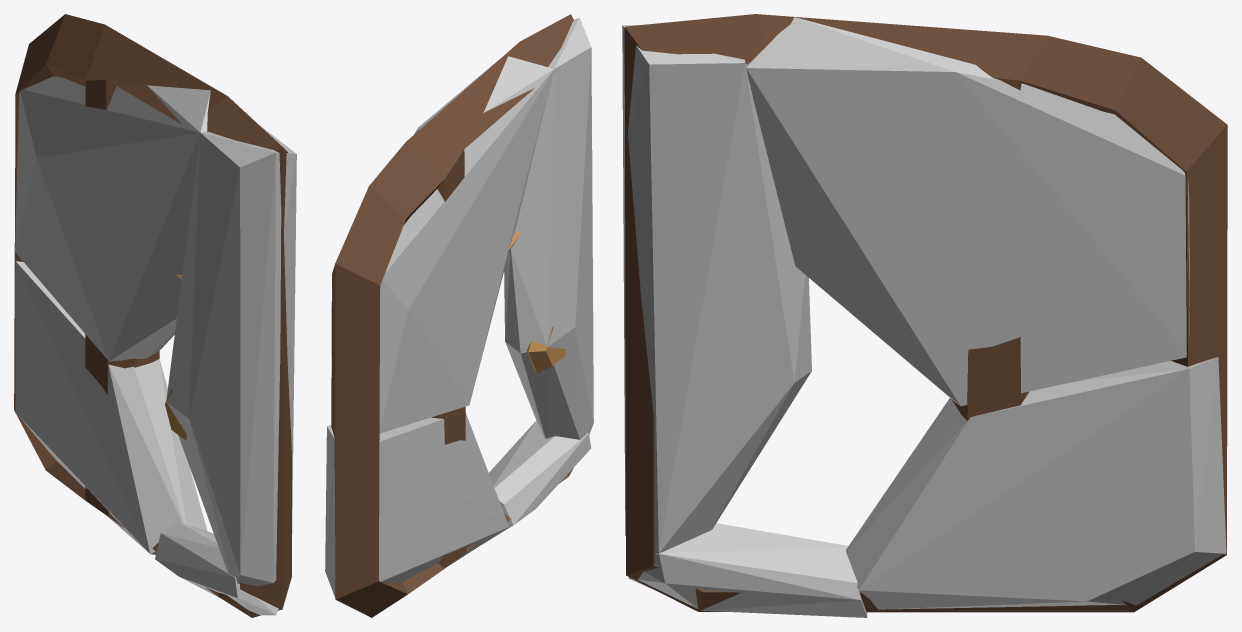
File: SM_Prop_Cabinet_01_Door_l_01.fbx
3 views of the same model, side by side, from view 1: azimuth 30°, elevation 25°; view 2: azimuth 150°, elevation 25°; view 3: azimuth 270°, elevation 25° (orthographic). The views are drawn at different scales.
Visible parts, largest first — view 1: SM_Prop_Cabinet_01_Door_l_01_ConvexHulls, SM_Prop_Cabinet_01_Door_l_01; view 2: SM_Prop_Cabinet_01_Door_l_01_ConvexHulls, SM_Prop_Cabinet_01_Door_l_01; view 3: SM_Prop_Cabinet_01_Door_l_01_ConvexHulls, SM_Prop_Cabinet_01_Door_l_01.
Boxes of the visible parts, x1,y1,x2,y2 form: SM_Prop_Cabinet_01_Door_l_01_ConvexHulls: [15, 76, 296, 615]; SM_Prop_Cabinet_01_Door_l_01: [14, 14, 291, 617]; SM_Prop_Cabinet_01_Door_l_01_ConvexHulls: [325, 17, 593, 597]; SM_Prop_Cabinet_01_Door_l_01: [331, 14, 573, 617]; SM_Prop_Cabinet_01_Door_l_01_ConvexHulls: [622, 17, 1226, 617]; SM_Prop_Cabinet_01_Door_l_01: [624, 14, 1227, 612].
Size of the model in its own units: 5.93 by 35.25 by 38.69.
Materials: 2 (1 with a texture image).
